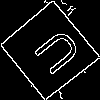U: (24, 25, 83, 84)
